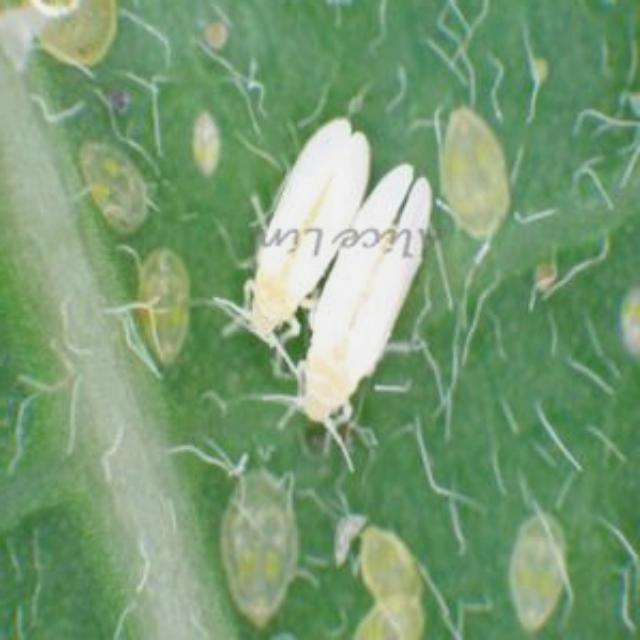Silverleaf whitefly: (290, 156, 428, 460), (215, 86, 369, 358)
